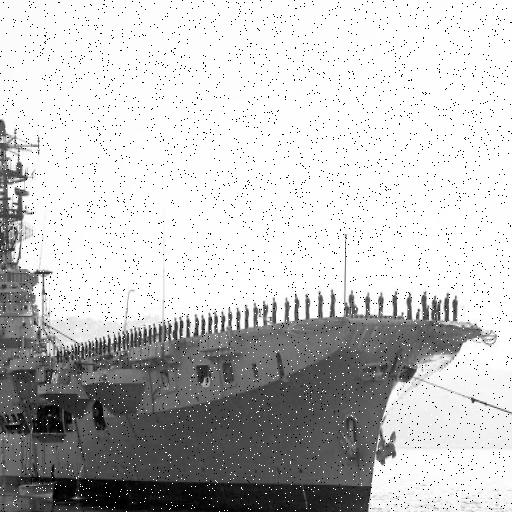Portanaves: (1, 96, 490, 512)
